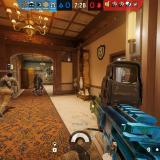Character: (0, 72, 19, 116), (32, 74, 48, 95), (32, 74, 43, 96)
Friend_label: (0, 63, 16, 72), (32, 66, 45, 75), (35, 66, 48, 74), (118, 67, 132, 74)
Head: (7, 72, 13, 78), (40, 73, 44, 77), (36, 74, 39, 77)
